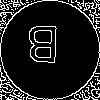B: (25, 25, 60, 73)
